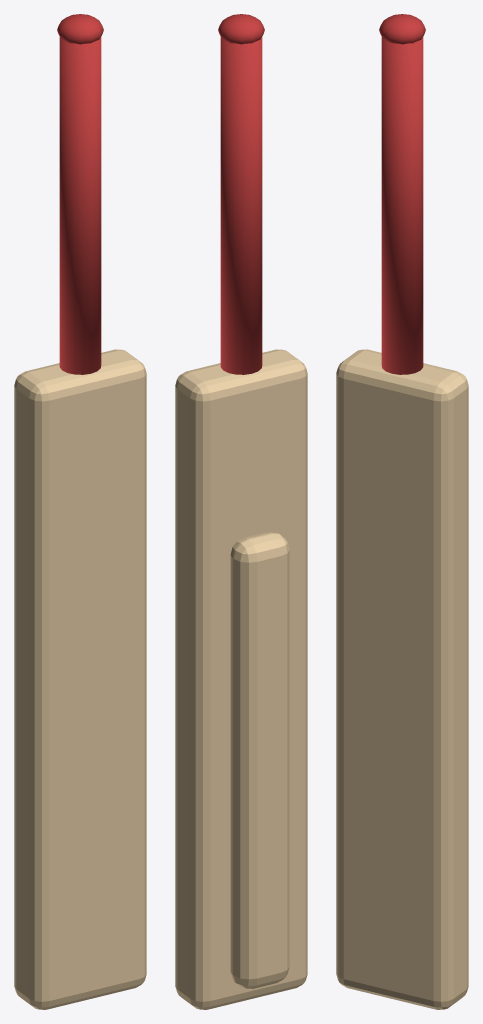
Rendered from cricket_bat.glb.
3 views of the same model, side by side, from view 1: azimuth 30°, elevation 25°; view 2: azimuth 210°, elevation 25°; view 3: azimuth 330°, elevation 25° (orthographic).
Visible parts, largest first — view 1: cricket_bat; view 2: cricket_bat; view 3: cricket_bat.
Part boxes in pixels (box(x1,y1,x2,y2)): cricket_bat: box(14, 14, 146, 1009); cricket_bat: box(175, 14, 307, 1009); cricket_bat: box(336, 14, 468, 1009).
Bounding box in the file's own units: 0.108 × 0.8714 × 0.0675.
